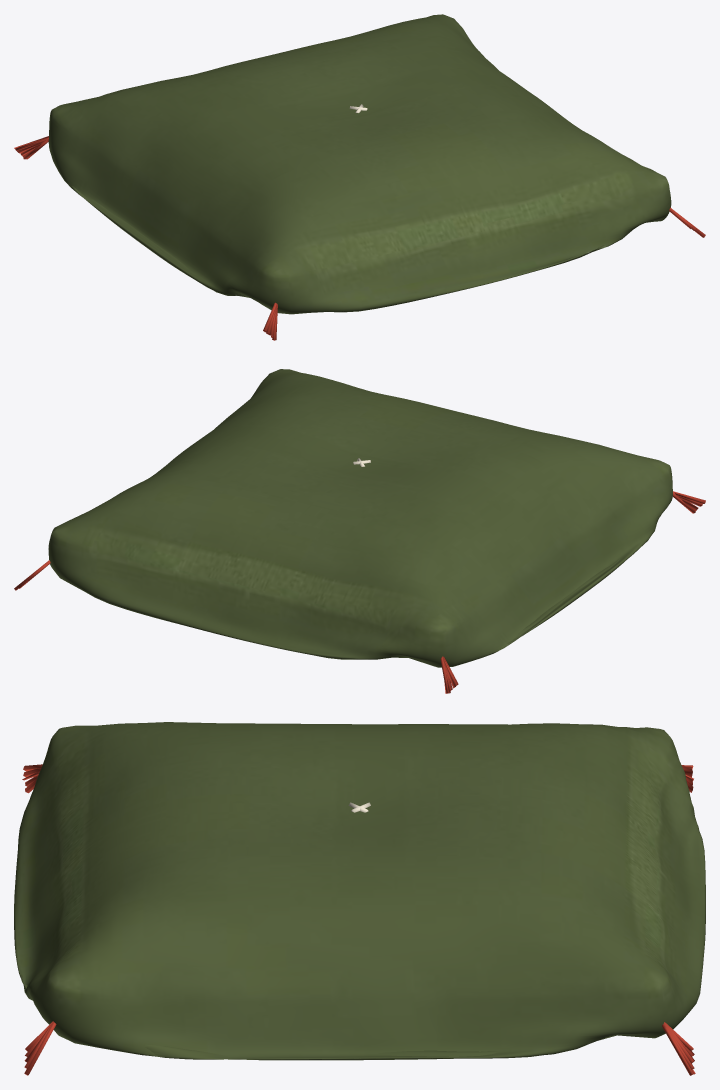
Rendered from zabuton_moss.glb.
3 views of the same model, one above another, from view 1: azimuth 30°, elevation 25°; view 2: azimuth 150°, elevation 25°; view 3: azimuth 270°, elevation 25° (orthographic). The views are drawn at different scales.
Parts seen in each view (by area): view 1: zabuton_moss_cushion, zabuton_moss_thread_red; view 2: zabuton_moss_cushion, zabuton_moss_thread_red; view 3: zabuton_moss_cushion, zabuton_moss_thread_red.
Boxes of the visible parts, x1,y1,x2,y2 form: zabuton_moss_cushion: [48, 14, 671, 314]; zabuton_moss_thread_red: [14, 136, 705, 340]; zabuton_moss_cushion: [48, 369, 672, 667]; zabuton_moss_thread_red: [14, 491, 705, 693]; zabuton_moss_cushion: [14, 722, 705, 1060]; zabuton_moss_thread_red: [22, 764, 695, 1075].
Size of the model in its own units: 1.18 by 0.2474 by 1.18.
Materials: 3 (1 with a texture image).
